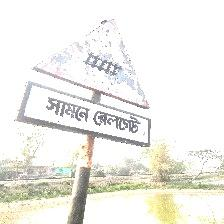Rail-crossing: (17, 20, 151, 147)
